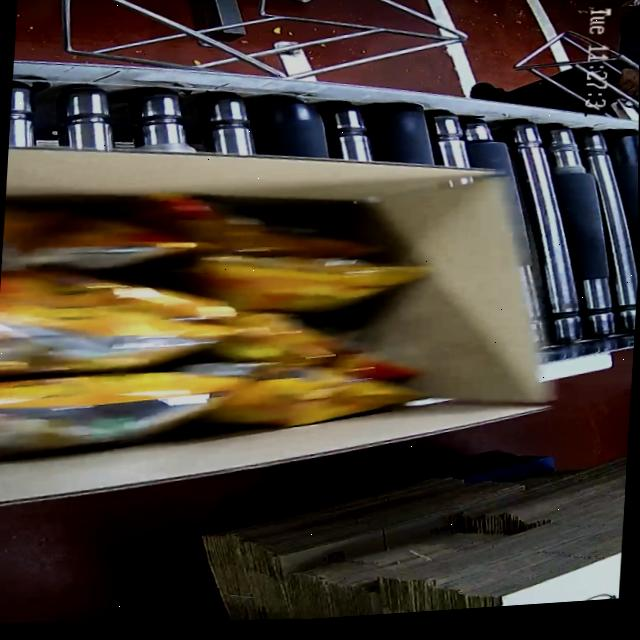FRENCH_CHEESE: (0, 177, 451, 477)
